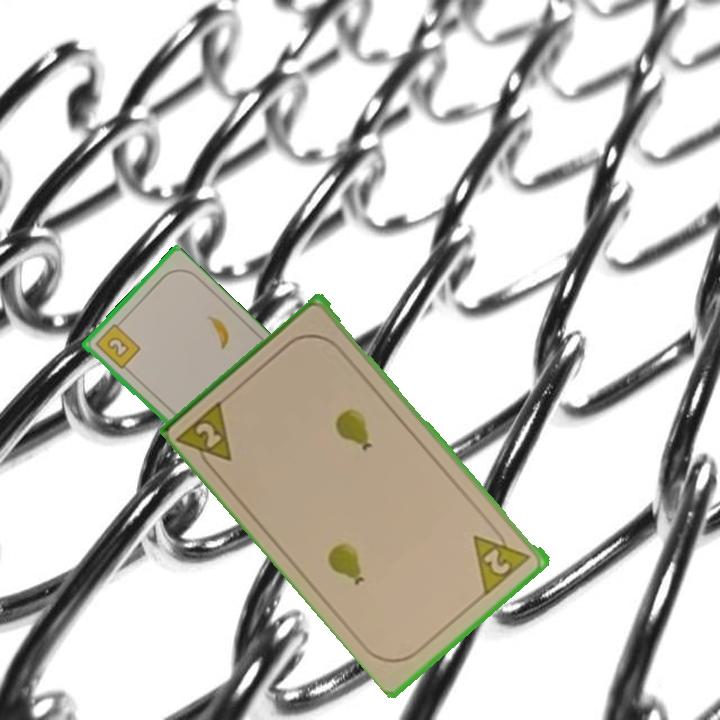2b: (91, 317, 143, 372)
2p: (469, 520, 534, 597), (175, 395, 236, 477)
